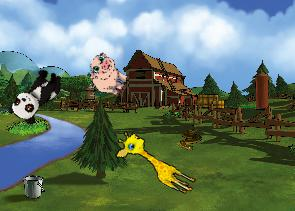giraffe: (110, 127, 203, 197)
panda: (5, 62, 67, 128)
pig: (81, 49, 135, 102)
